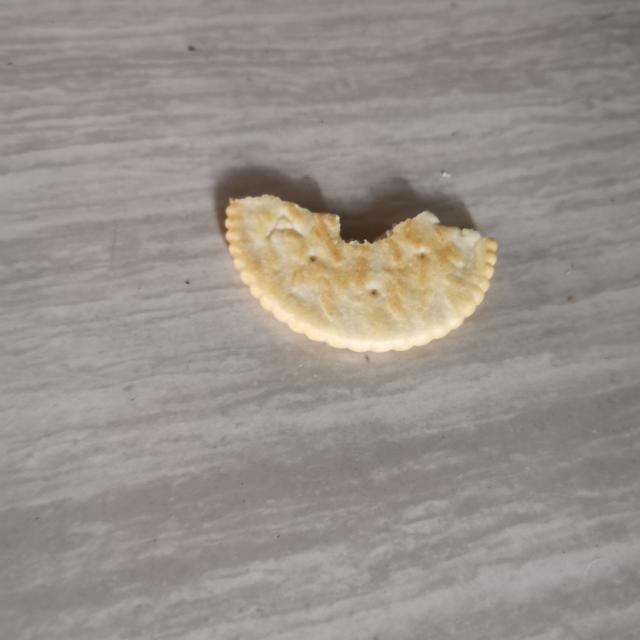Broken: (223, 192, 498, 354)
